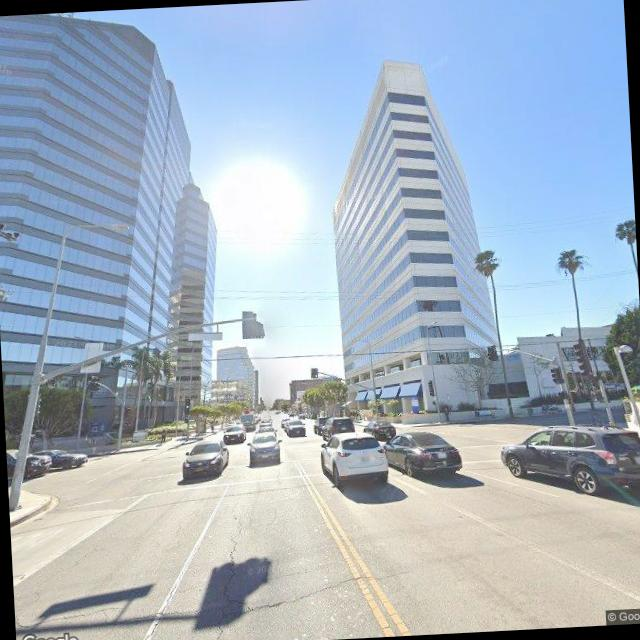crack: (14, 570, 402, 629), (187, 503, 251, 640)
